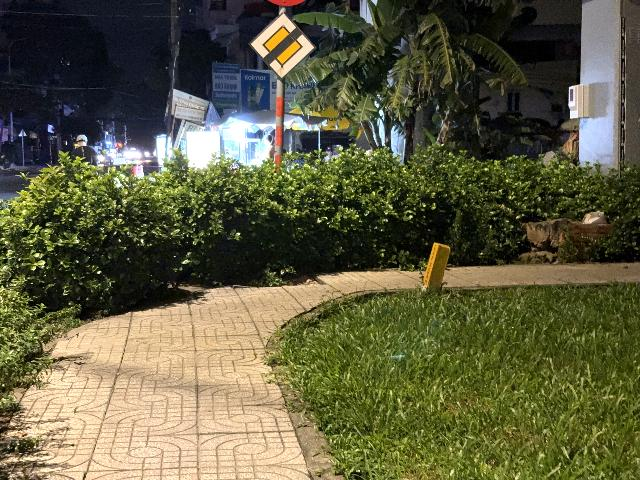het-duong-uu-tien: (248, 11, 317, 82)
